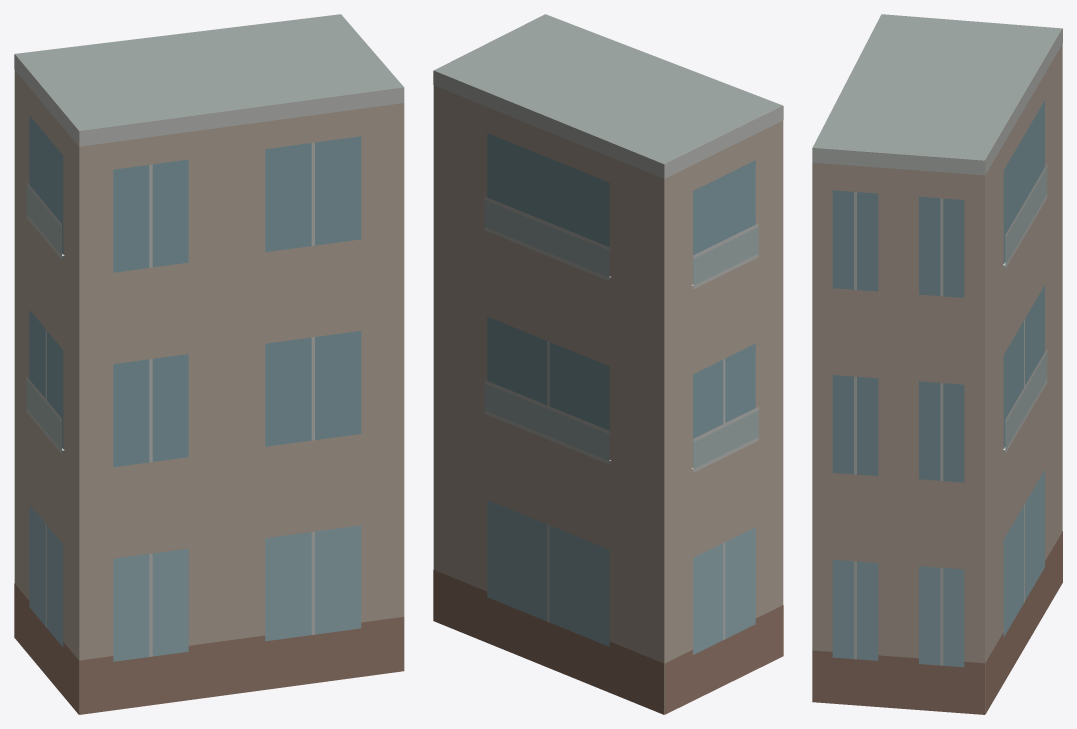
The model's file is survey-upis-32541030.glb.
3 views of the same model, side by side, from view 1: azimuth 30°, elevation 25°; view 2: azimuth 150°, elevation 25°; view 3: azimuth 270°, elevation 25° (orthographic). The views are drawn at different scales.
Parts seen in each view (by area): view 1: survey-upis-32541030.tmp; view 2: survey-upis-32541030.tmp; view 3: survey-upis-32541030.tmp.
Boxes of the visible parts, x1,y1,x2,y2 form: survey-upis-32541030.tmp: (14,14,404,714); survey-upis-32541030.tmp: (433,14,783,714); survey-upis-32541030.tmp: (812,14,1062,714).
Bounding box in the file's own units: 5.2 × 9.15 × 3.76.
